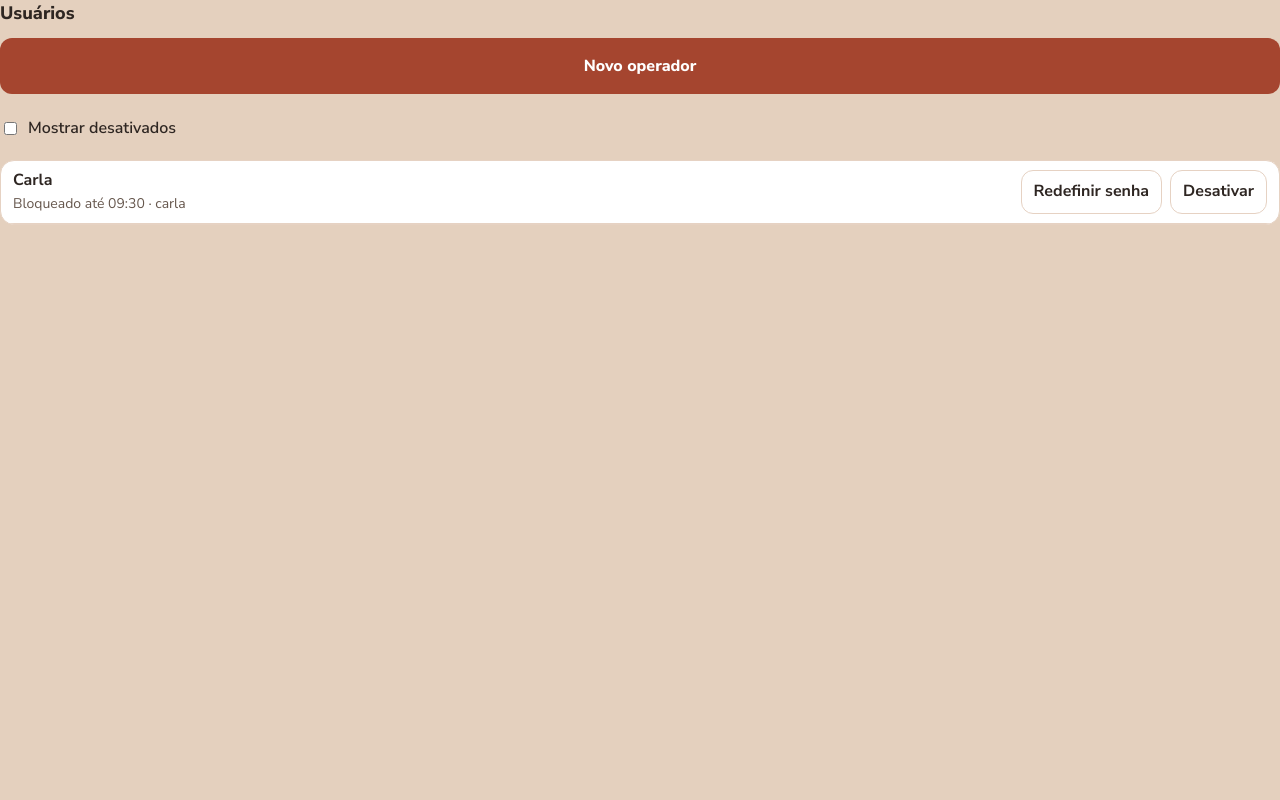
Test: senha curta mostra a mensagem
The width and height of the screenshot is (1280, 800).
Click the button "Novo operador".
click(640, 66)  # box [0,38,1279,94]
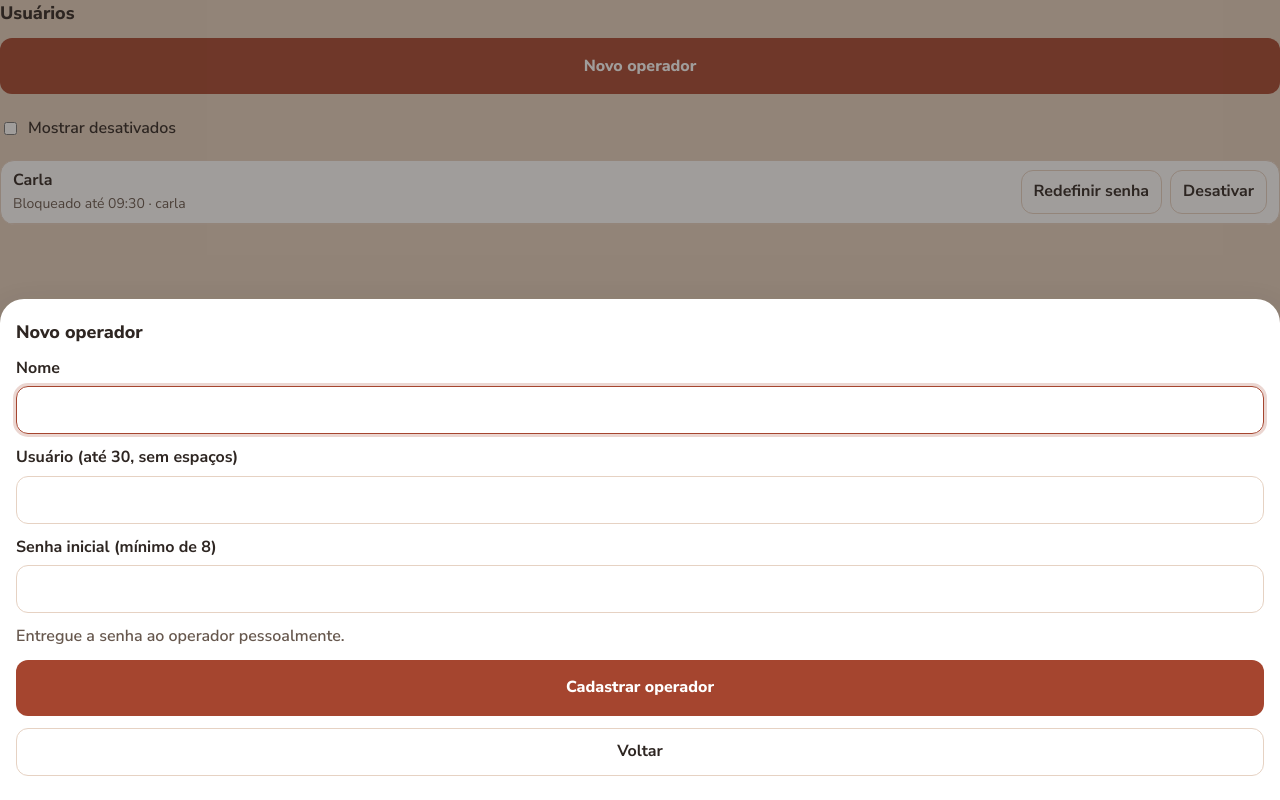
Type "Ana" into the field labelled "Nome".
click(640, 410); type("Ana")  # box [16,386,1264,434]
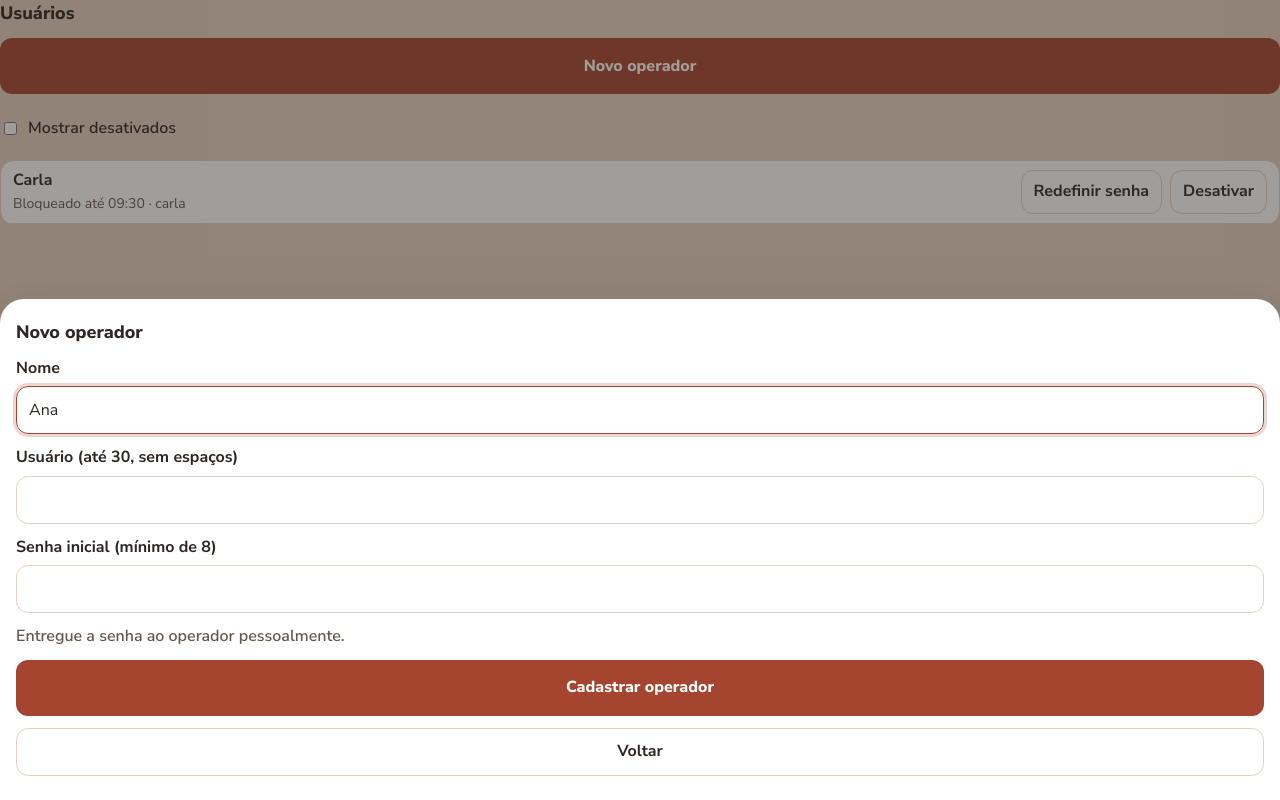
Type "ana" into the field labelled "Usuário (até 30, sem espaços)".
click(640, 500); type("ana")  # box [16,476,1264,524]
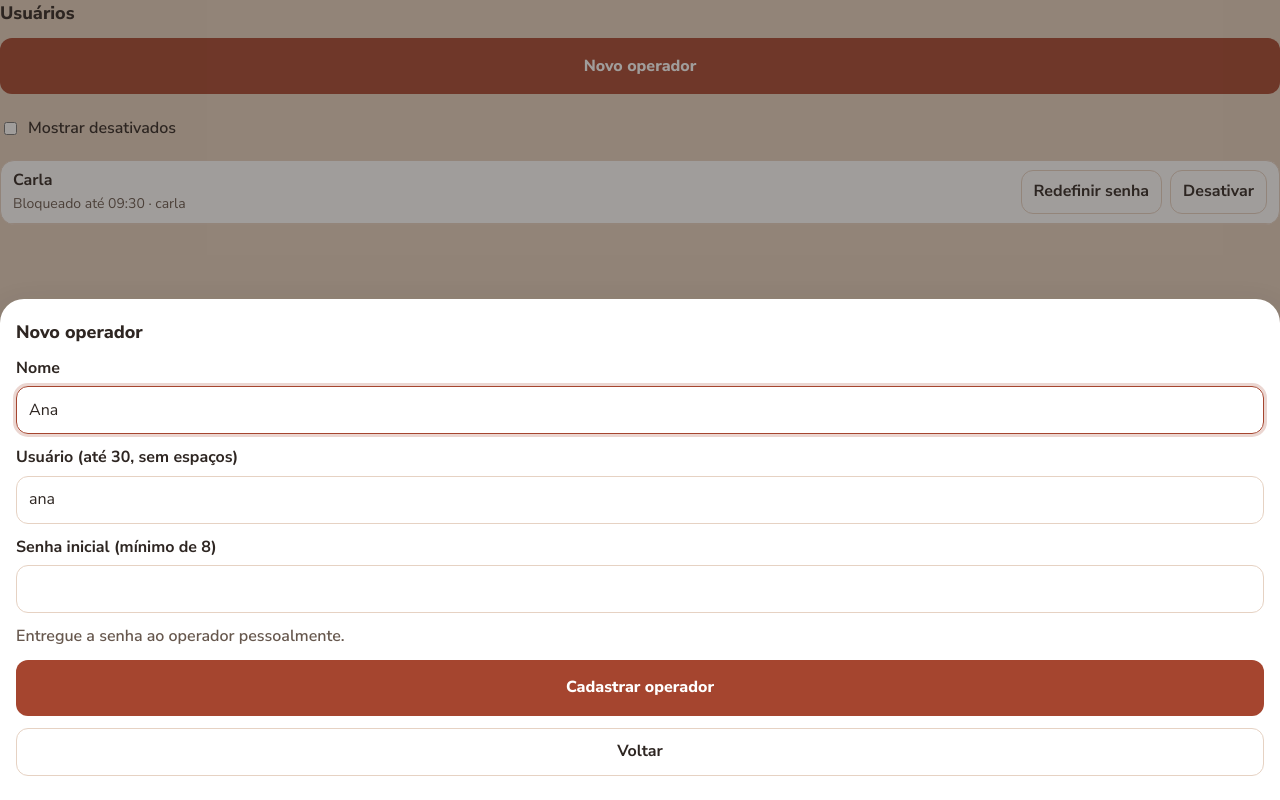
Type "curta" into the password field labelled "Senha inicial (mínimo de 8)".
click(640, 589); type("curta")  # box [16,565,1264,613]
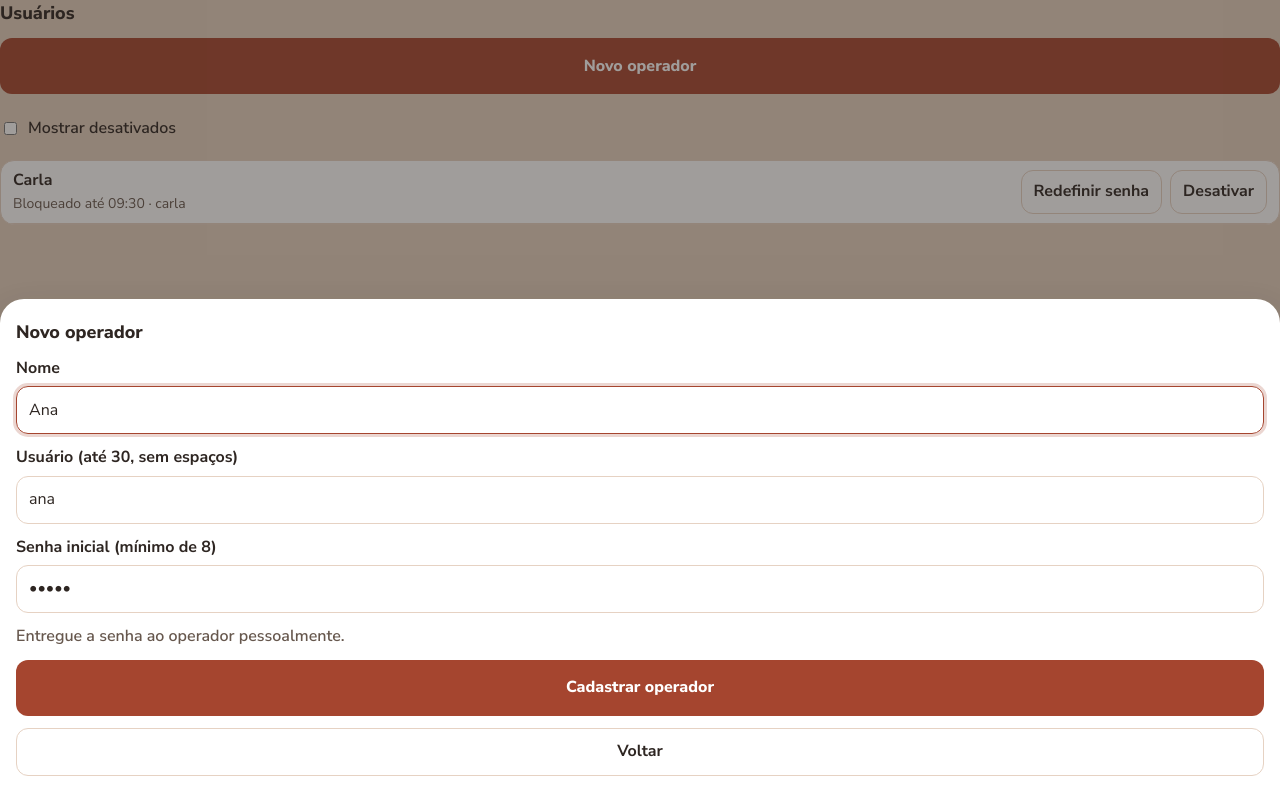
Click the button "Cadastrar operador".
click(640, 688)  # box [16,660,1264,716]
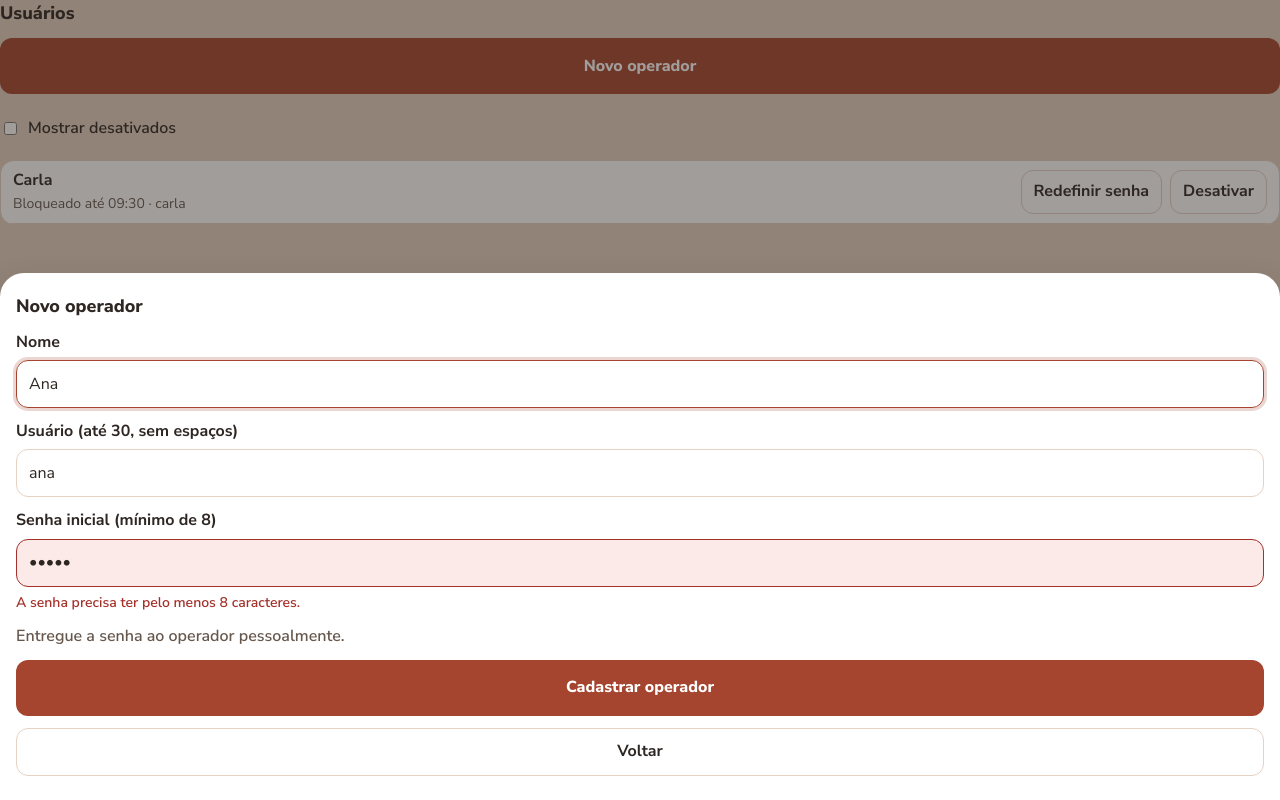
Check: the text "A senha precisa ter pelo menos 8 caracteres." is shown, box [16,592,300,612]
